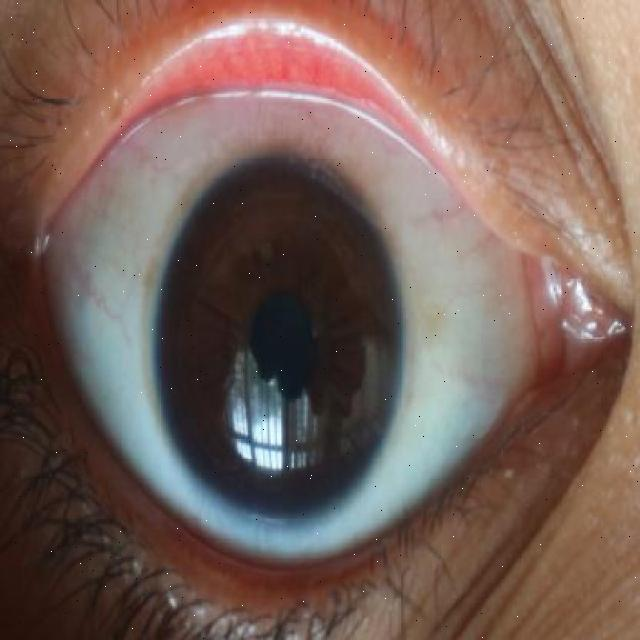Normal: (152, 151, 406, 523)
